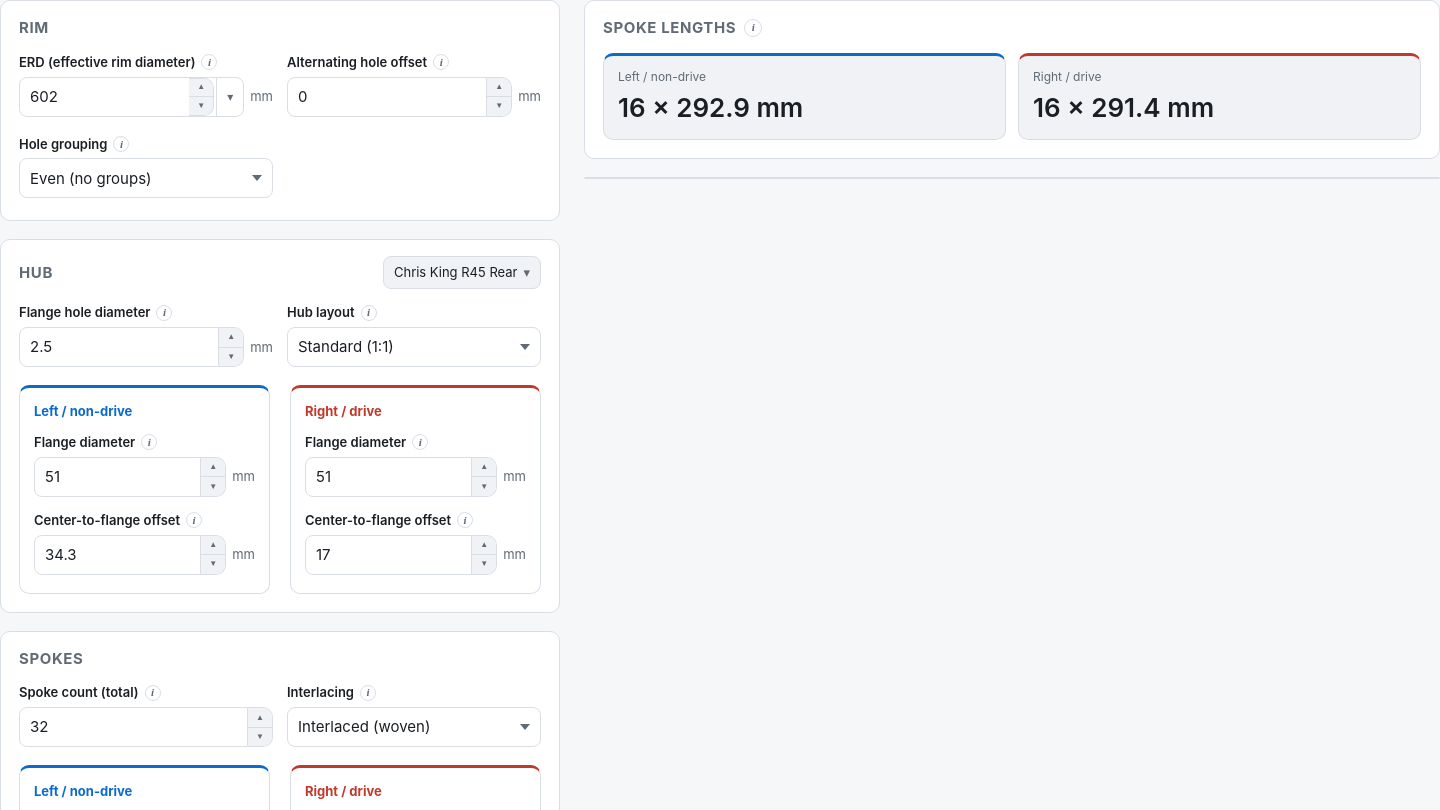
Test: Wheel building page › puts Rim, Hub and Spokes guidance on fields instead of section headers
Expected: the text "diameter at the nipple seats" is not shown
Click the button named "About: ERD (effective rim diameter)" at coordinates (210, 62), box [202, 54, 218, 70]
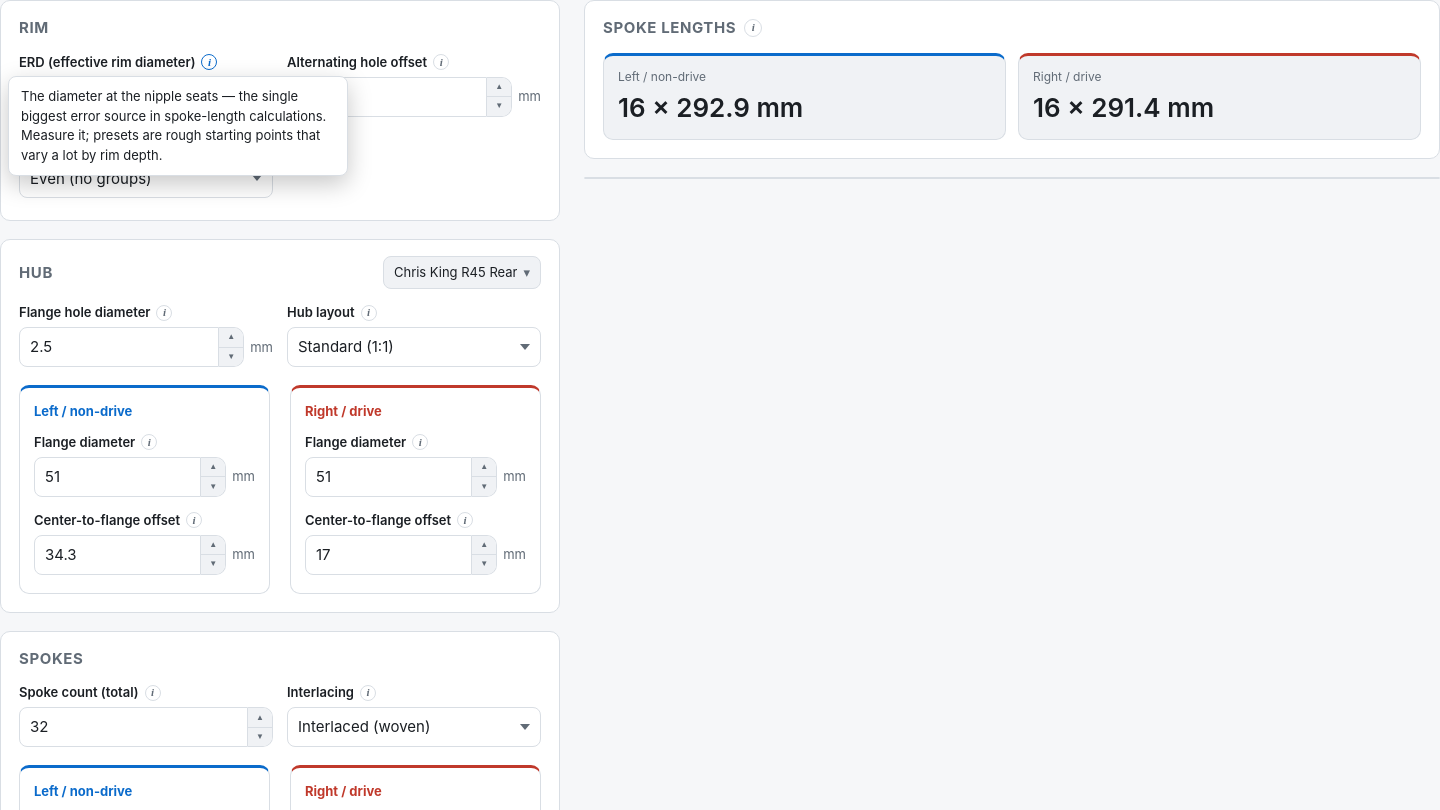
Expected: the button named "About: Flange hole diameter" is shown, [156, 305, 172, 321]
Expected: the tooltip "diameter at the nipple seats" is shown, [21, 88, 326, 163]
